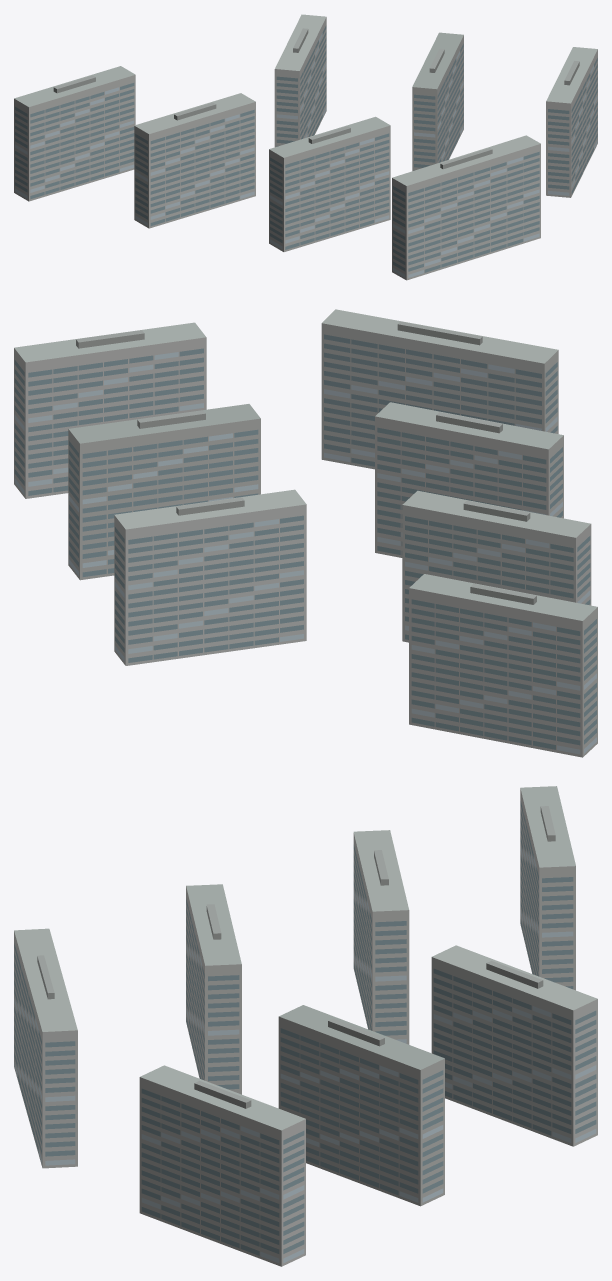
The model's file is apt-a14206202.glb.
3 renders of one model, top to bottom at view 1: azimuth 30°, elevation 25°; view 2: azimuth 150°, elevation 25°; view 3: azimuth 270°, elevation 25°, orthographic. The views are drawn at different scales.
Parts seen in each view (by area): view 1: apt-a14206202; view 2: apt-a14206202; view 3: apt-a14206202.
Part boxes in pixels (box(x1,y1,x2,y2)): apt-a14206202: box(14, 14, 597, 280); apt-a14206202: box(14, 309, 597, 757); apt-a14206202: box(14, 786, 597, 1266).
Size of the model in its own units: 248 by 47.81 by 178.
